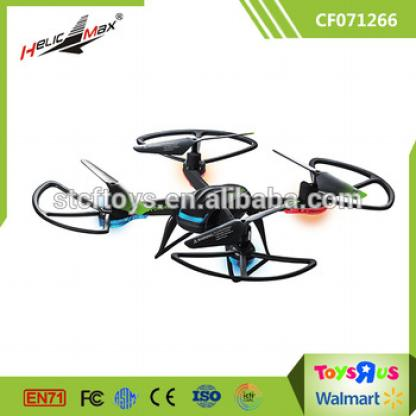drone: (24, 104, 403, 298)
